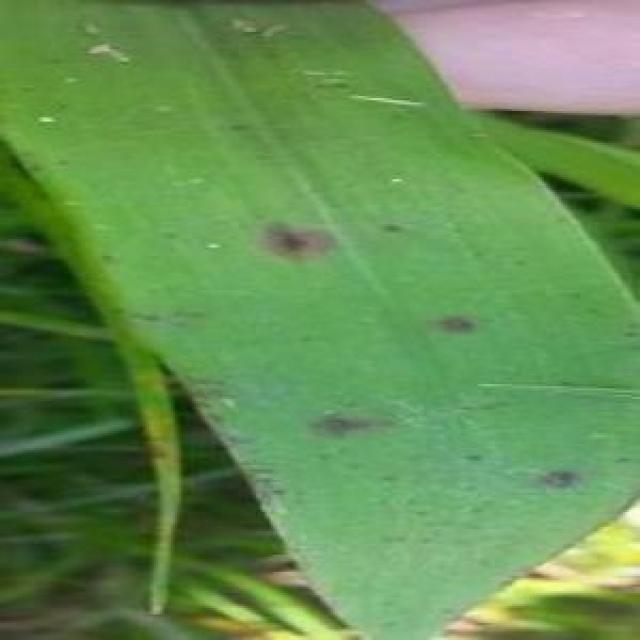Brown_Spot: (251, 218, 332, 270), (308, 408, 382, 439), (435, 302, 483, 348), (538, 467, 585, 501), (375, 219, 412, 240)
